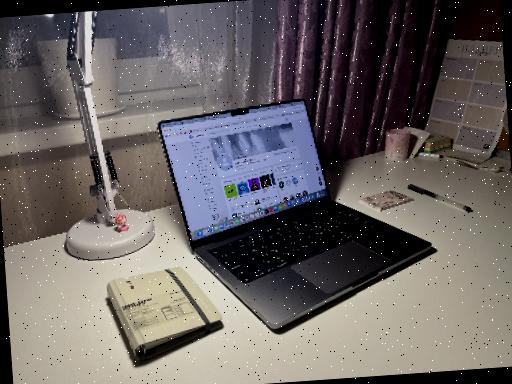vk: (163, 108, 331, 219)
